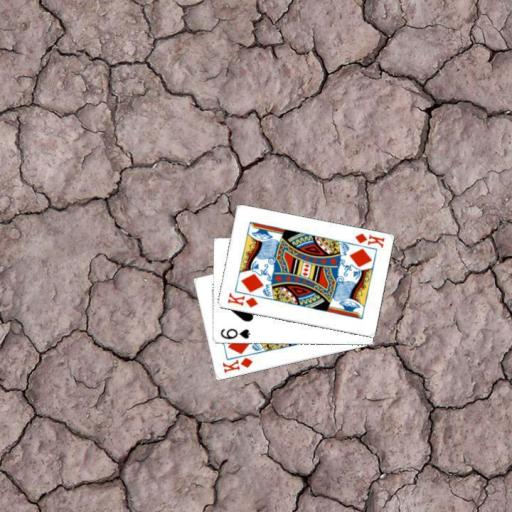card-corner: (219, 354, 255, 375), (224, 290, 259, 310), (351, 230, 386, 250), (218, 326, 252, 340)
